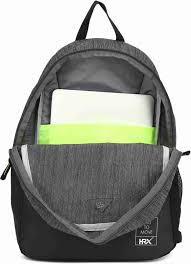backpack: (0, 0, 190, 261)
